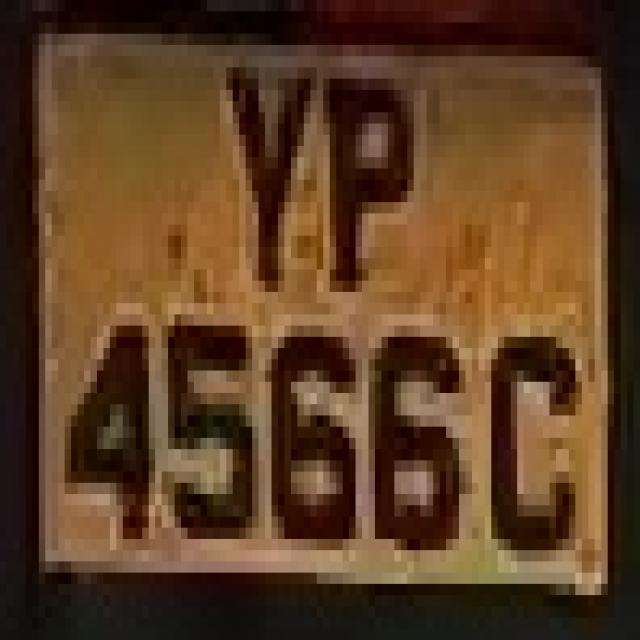4: (45, 303, 168, 550)
5: (155, 304, 272, 562)
6: (362, 258, 472, 562), (252, 269, 356, 539)
C: (472, 292, 588, 606)
P: (310, 56, 420, 303)
Y: (213, 11, 317, 303)
